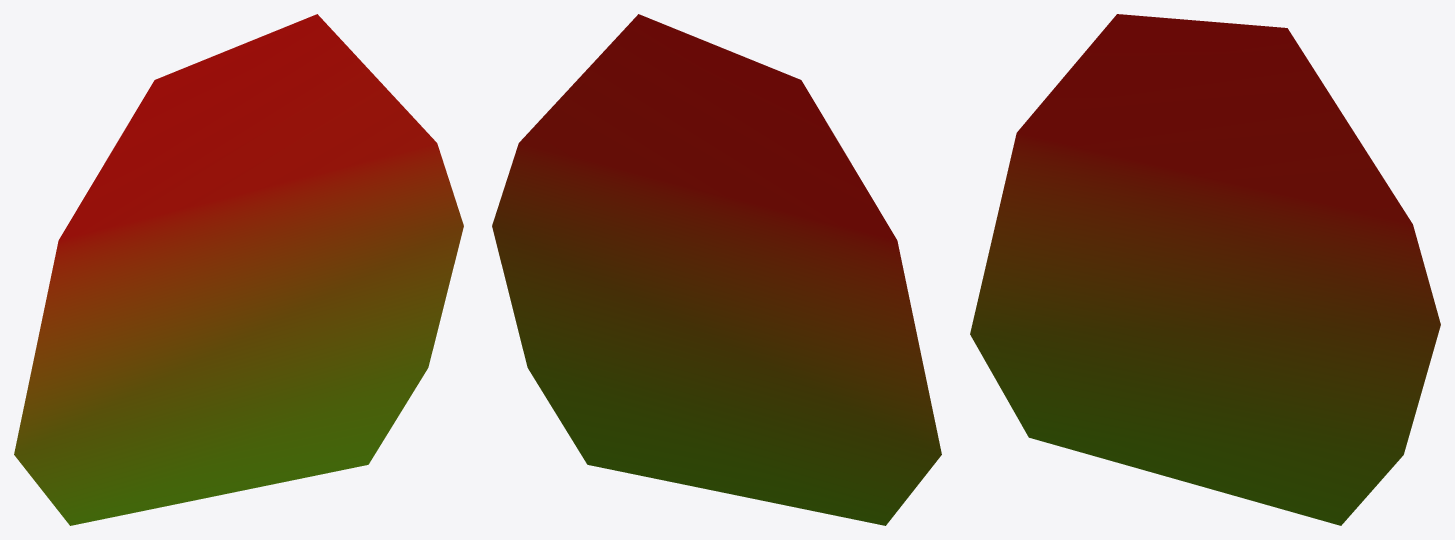
The model's file is Var2_LOD7.fbx.
3 renders of one model, left to right at view 1: azimuth 30°, elevation 25°; view 2: azimuth 150°, elevation 25°; view 3: azimuth 330°, elevation 25°, orthographic. The views are drawn at different scales.
Visible parts, largest first — view 1: _mbrv_Var2_LOD7; view 2: _mbrv_Var2_LOD7; view 3: _mbrv_Var2_LOD7.
Part boxes in pixels (x1=…): _mbrv_Var2_LOD7: x1=14, y1=14, x2=463, y2=525; _mbrv_Var2_LOD7: x1=492, y1=14, x2=941, y2=525; _mbrv_Var2_LOD7: x1=970, y1=14, x2=1440, y2=525.
Size of the model in its own units: 28.42 by 27.96 by 7.08e-07.
